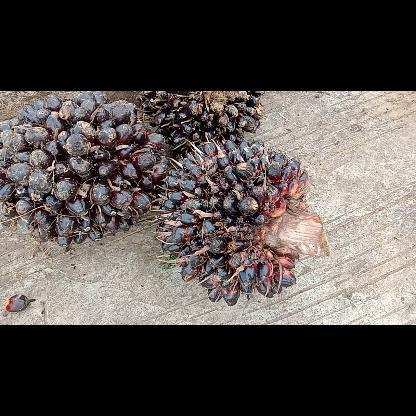TBS mentah: (154, 137, 334, 307), (0, 93, 169, 252), (134, 91, 264, 149)
